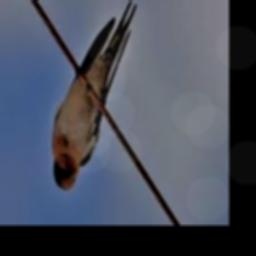Swallow: (50, 1, 136, 190)
